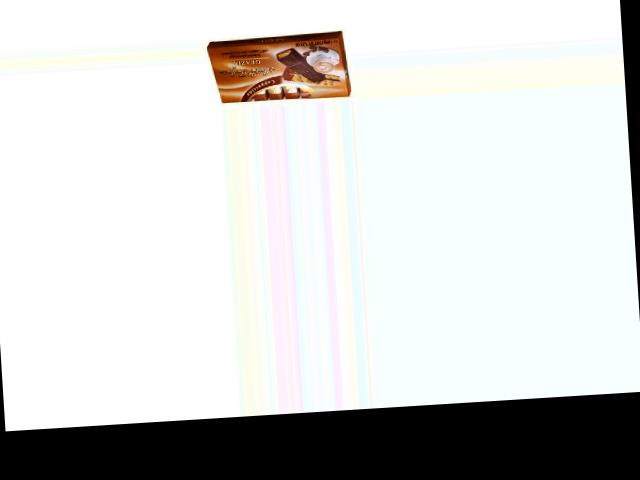chocolate: (203, 30, 352, 106)
